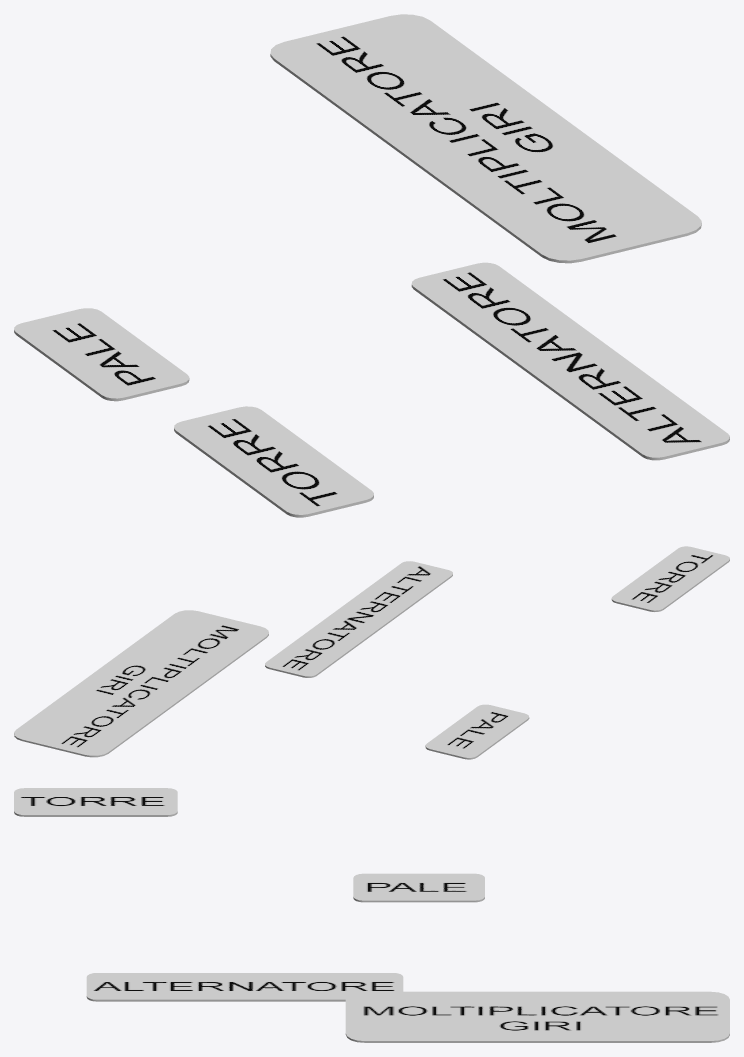
The model's file is targhette.fbx.
The picture shows the model from 3 angles, top to bottom: view 1: azimuth 30°, elevation 25°; view 2: azimuth 150°, elevation 25°; view 3: azimuth 270°, elevation 25°; orthographic projection. The views are drawn at different scales.
Parts seen in each view (by area): view 1: pCube2, pCube1, pCube4, pCube3; view 2: pCube2, pCube1, pCube4, pCube3; view 3: pCube2, pCube1, pCube4, pCube3.
Boxes of the visible parts, x1=… form: pCube2: x1=270, y1=14, x2=701, y2=263; pCube1: x1=411, y1=262, x2=729, y2=460; pCube4: x1=174, y1=406, x2=373, y2=517; pCube3: x1=14, y1=308, x2=189, y2=401; pCube2: x1=14, y1=610, x2=268, y2=757; pCube1: x1=265, y1=561, x2=452, y2=677; pCube4: x1=611, y1=546, x2=729, y2=611; pCube3: x1=425, y1=704, x2=529, y2=759; pCube2: x1=345, y1=991, x2=729, y2=1042; pCube1: x1=86, y1=973, x2=403, y2=1001; pCube4: x1=14, y1=788, x2=177, y2=816; pCube3: x1=353, y1=873, x2=484, y2=902.
Size of the model in its own units: 129 by 17.78 by 184.
Materials: 1 (1 with a texture image).
